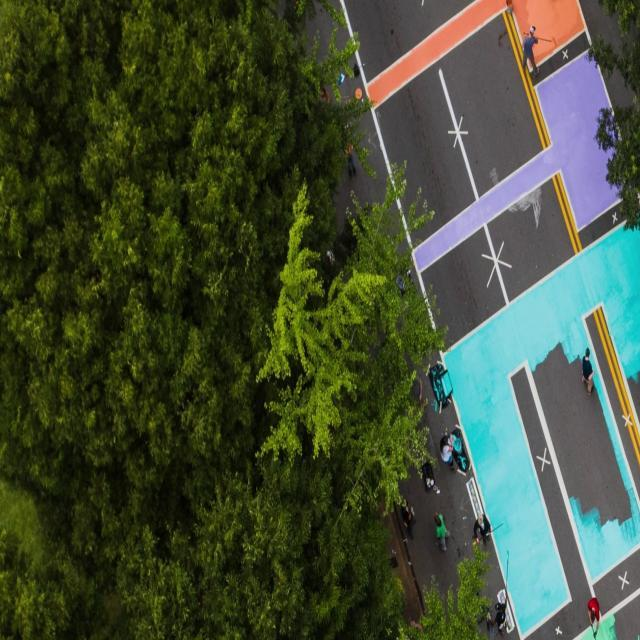vehicle: (521, 25, 539, 73), (432, 512, 450, 550), (398, 495, 415, 531), (586, 598, 602, 636), (438, 434, 454, 470), (582, 345, 594, 393), (472, 514, 492, 542), (492, 602, 510, 632)
